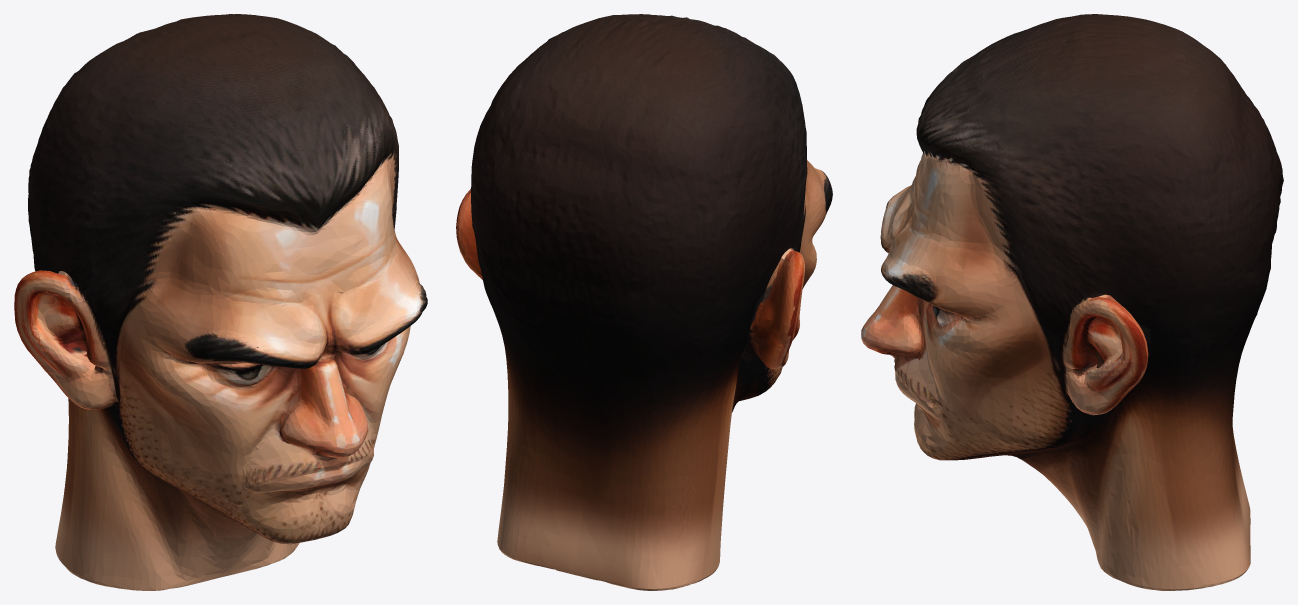
File: side_ferryman_repaired_atlas.glb
3 views of the same model, side by side, from view 1: azimuth 30°, elevation 25°; view 2: azimuth 150°, elevation 25°; view 3: azimuth 270°, elevation 25° (orthographic). The views are drawn at different scales.
Visible parts, largest first — view 1: temp_mesh.ply; view 2: temp_mesh.ply; view 3: temp_mesh.ply.
Part boxes in pixels (x1,y1,x2,y2): temp_mesh.ply: (14, 14, 427, 590); temp_mesh.ply: (456, 14, 832, 590); temp_mesh.ply: (861, 14, 1283, 590).
Size of the model in its own units: 0.8864 by 1.23 by 0.9246.
1 material, 1 textured.
